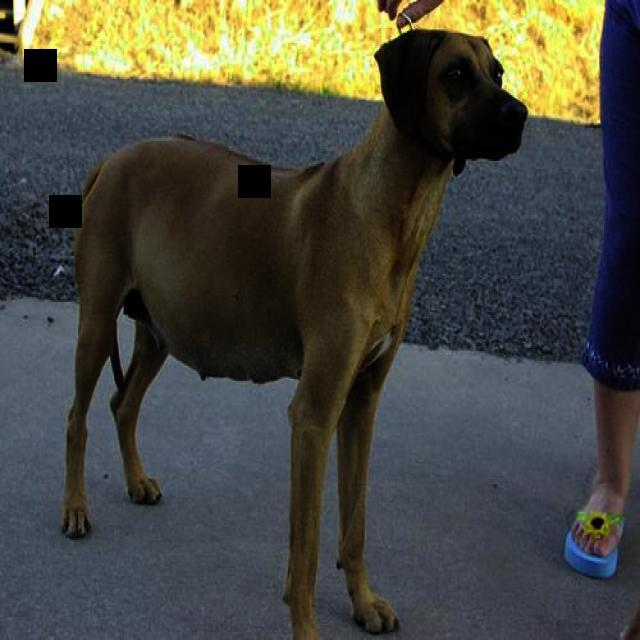adult_dog: (58, 27, 532, 640)
